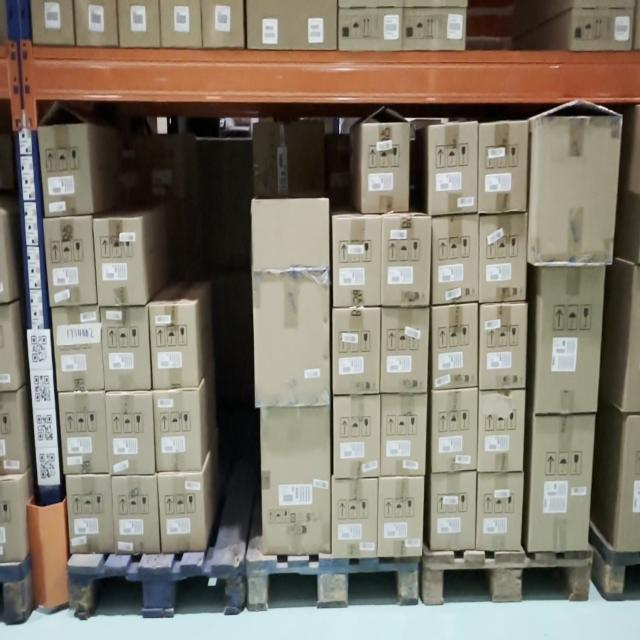box: (534, 118, 621, 266), (254, 274, 328, 406), (264, 408, 328, 554), (528, 415, 594, 553), (538, 270, 598, 409), (39, 124, 94, 217), (43, 216, 95, 305), (93, 219, 144, 305), (52, 306, 103, 391), (333, 218, 381, 307), (150, 303, 199, 388), (480, 123, 526, 210), (59, 391, 107, 473), (102, 310, 151, 390), (430, 126, 476, 210), (158, 475, 206, 554), (481, 216, 526, 300), (154, 392, 201, 472), (384, 218, 428, 303), (66, 476, 113, 555), (364, 126, 408, 209), (481, 306, 525, 389), (111, 476, 159, 552), (335, 309, 378, 393), (107, 394, 152, 473), (382, 310, 426, 390), (335, 397, 379, 476), (433, 389, 477, 468), (434, 220, 477, 300), (383, 396, 425, 475), (434, 308, 476, 386), (481, 392, 522, 470), (333, 482, 376, 556), (477, 475, 521, 547), (380, 479, 421, 555), (432, 475, 473, 548)
